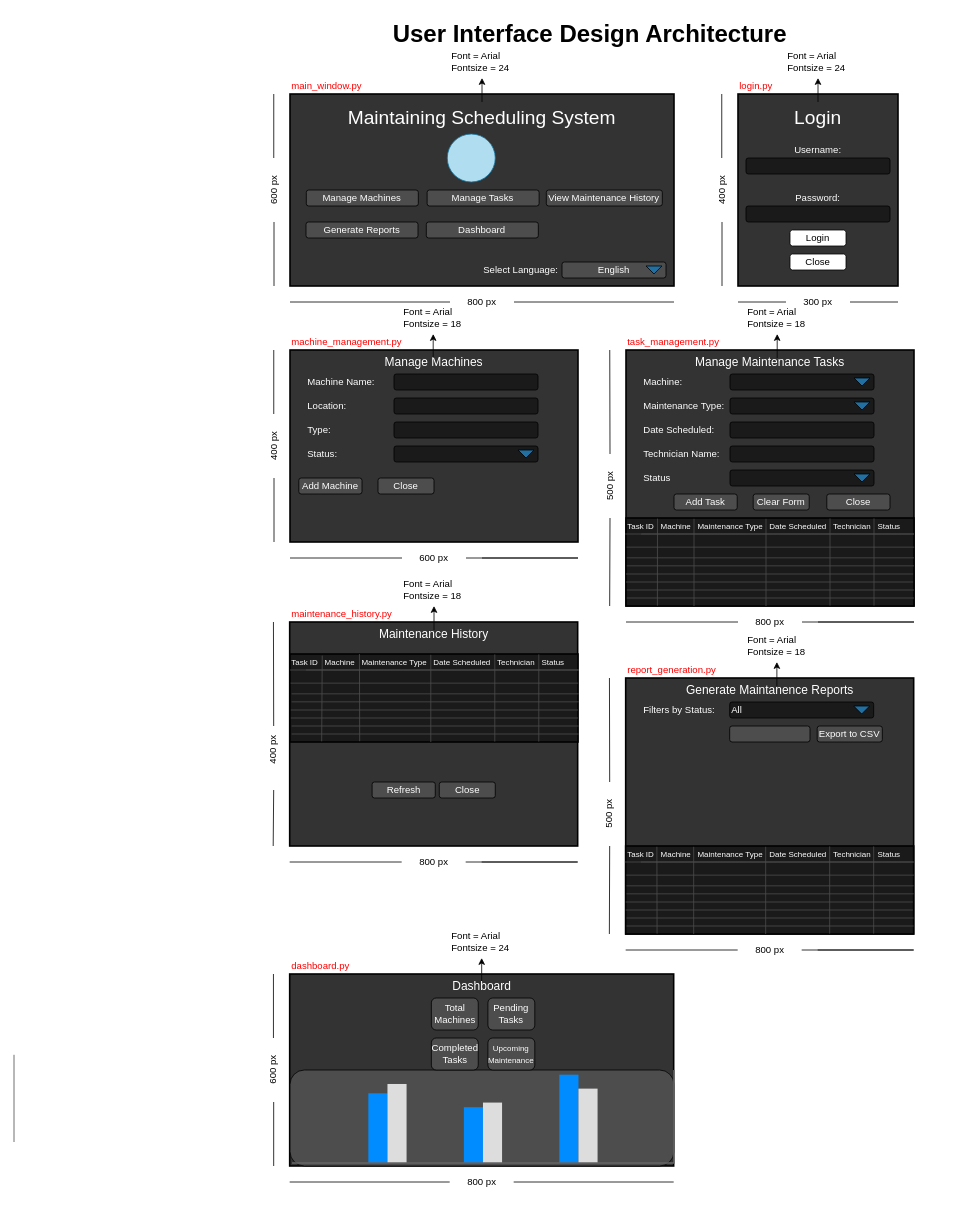
This 968x1211 diagram has some shape labels left out. Each missing label, with the centre of its shape:
"Generate Report" belongs at point 769,733.
"Logo" belongs at point 470,157.
